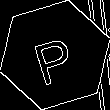P_N: (29, 25, 81, 85)
